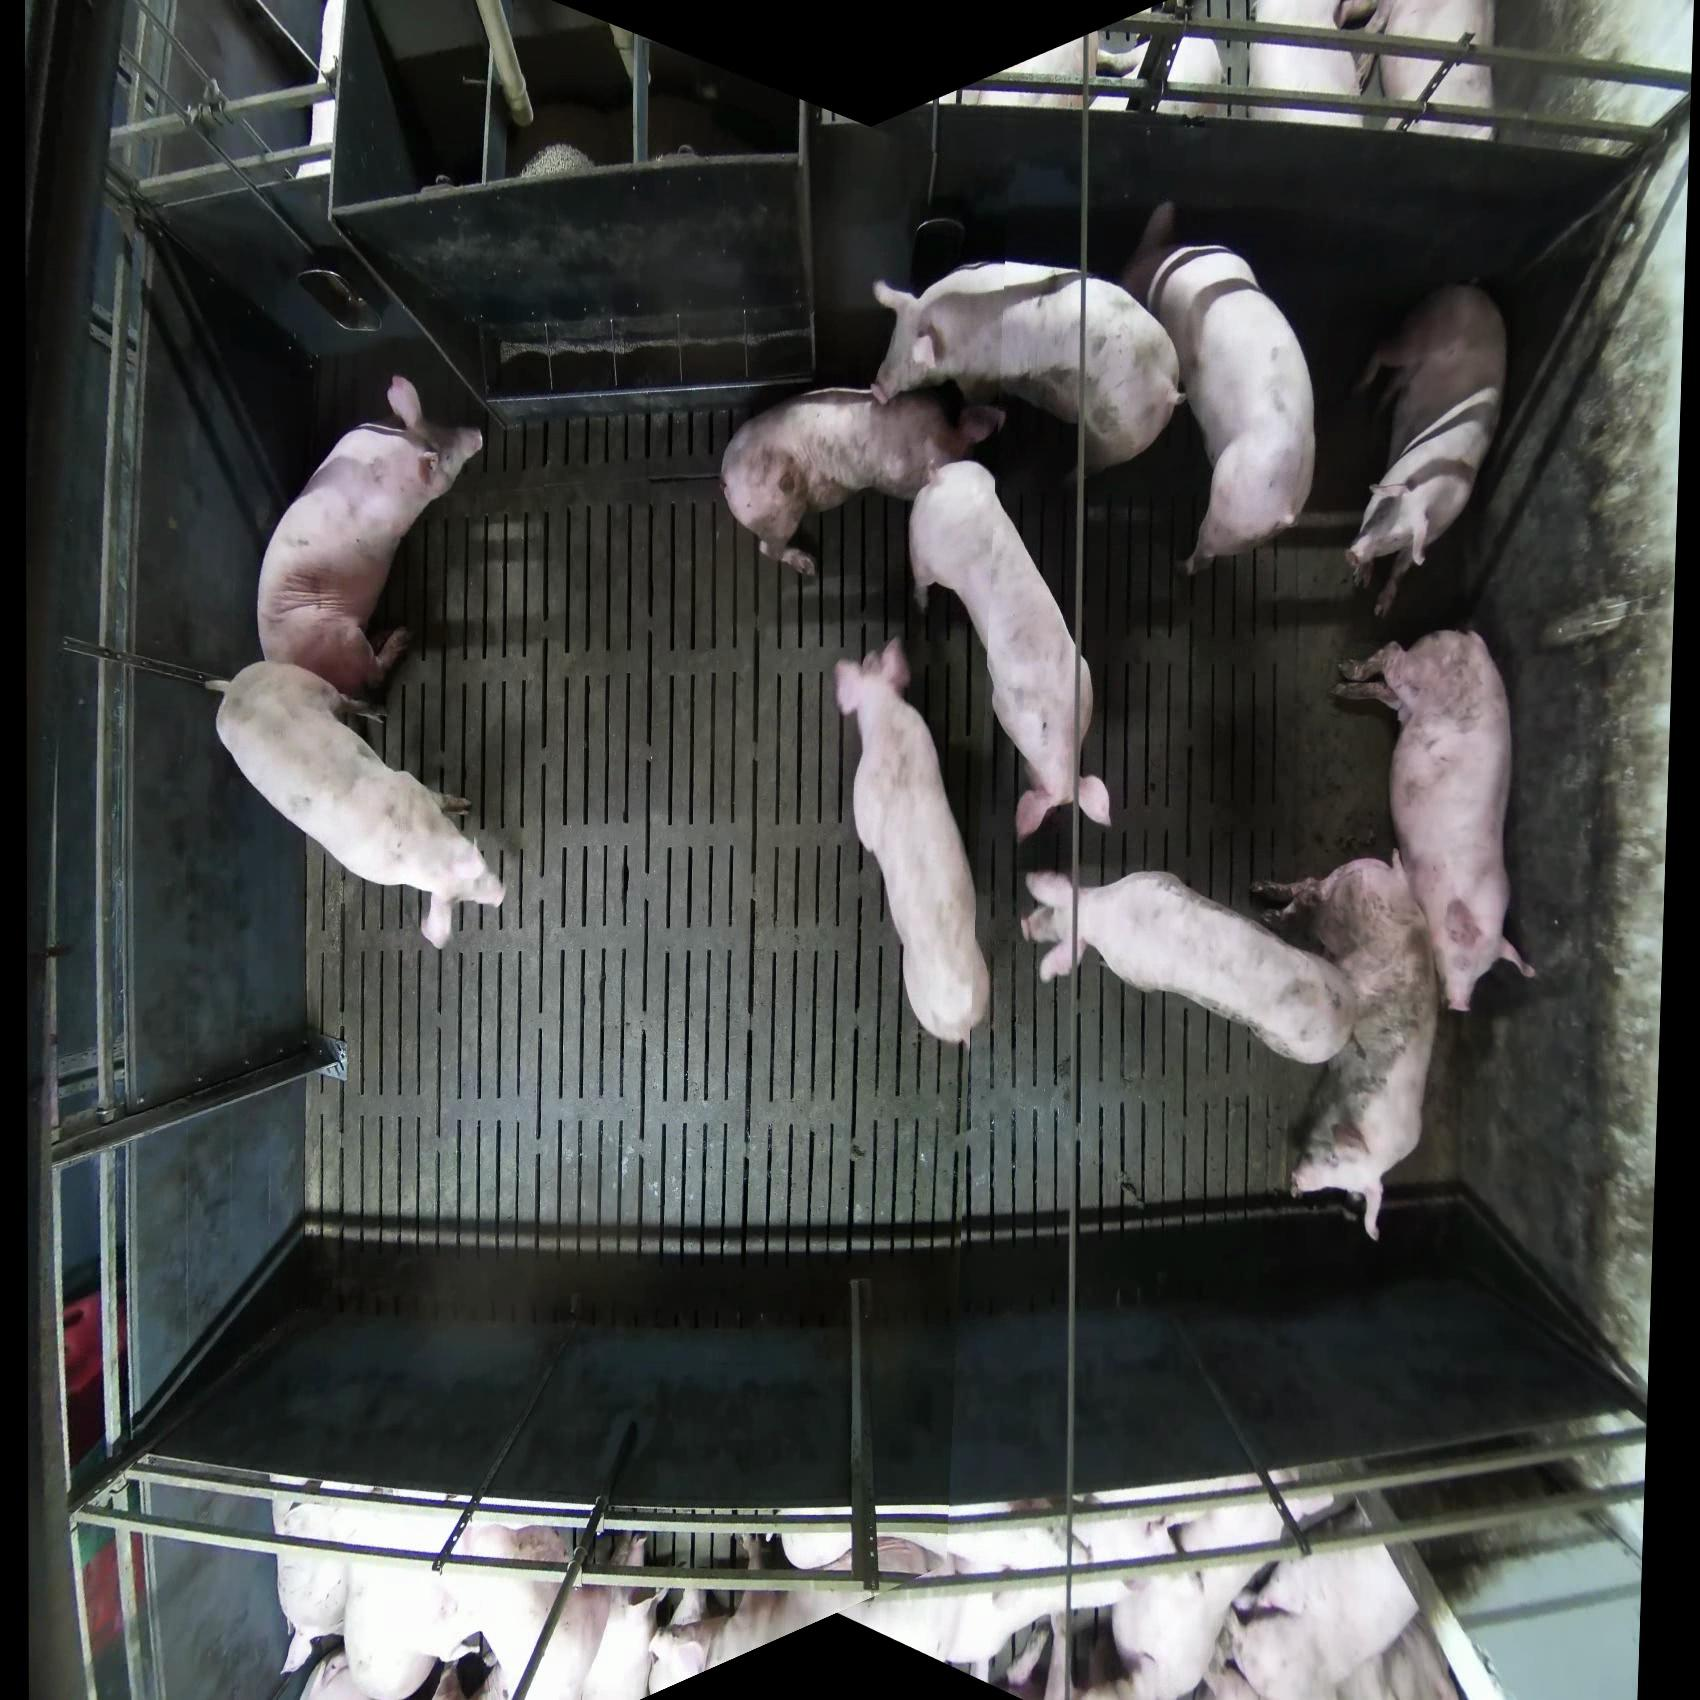pig: (271, 1485, 1465, 1700), (205, 659, 508, 951), (1331, 626, 1537, 1017), (908, 456, 1112, 842), (255, 374, 486, 708), (1119, 199, 1319, 579), (1252, 852, 1442, 1242), (870, 258, 1186, 479), (1020, 867, 1359, 1066), (834, 637, 992, 1048), (718, 378, 1006, 579), (1343, 280, 1509, 618), (1073, 1491, 1340, 1698), (1194, 1496, 1462, 1700), (1368, 2, 1498, 140), (1249, 2, 1379, 128), (1098, 26, 1227, 121), (518, 142, 596, 181)
